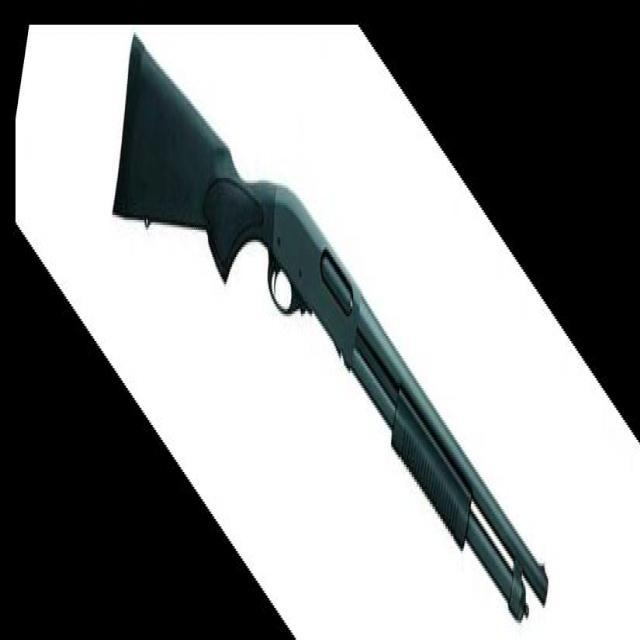weapon: (112, 28, 550, 626)
